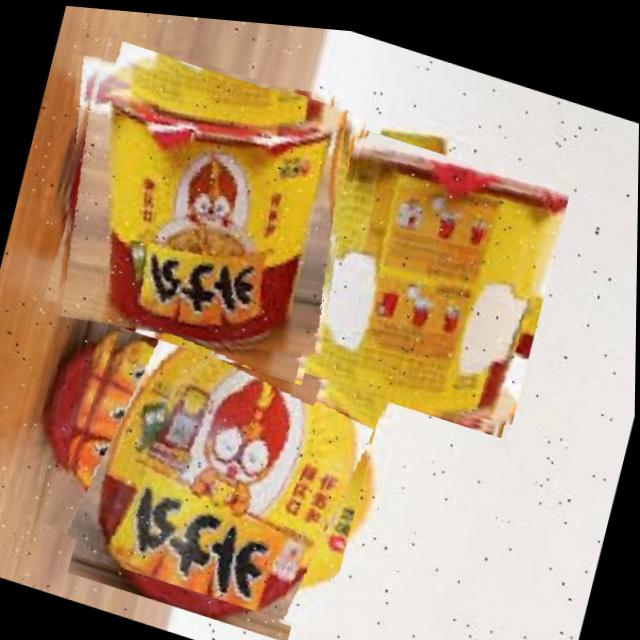Miscellaneous: (42, 256, 396, 630), (28, 20, 370, 383), (258, 104, 570, 432)
